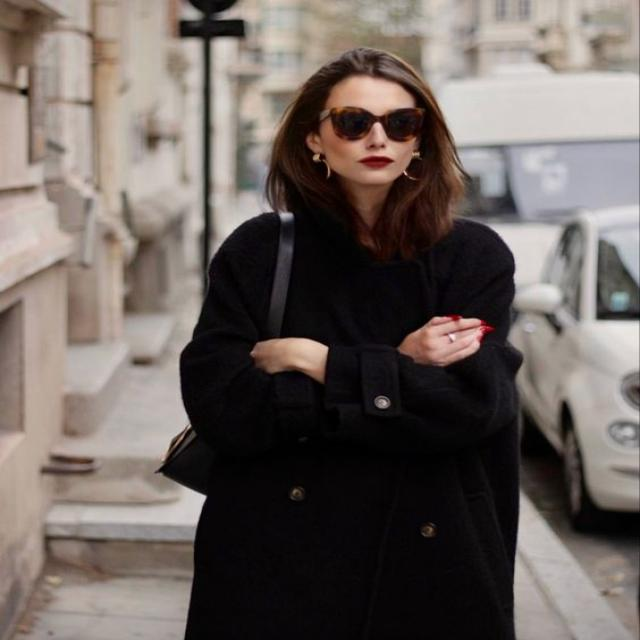glasses: (322, 108, 436, 142)
